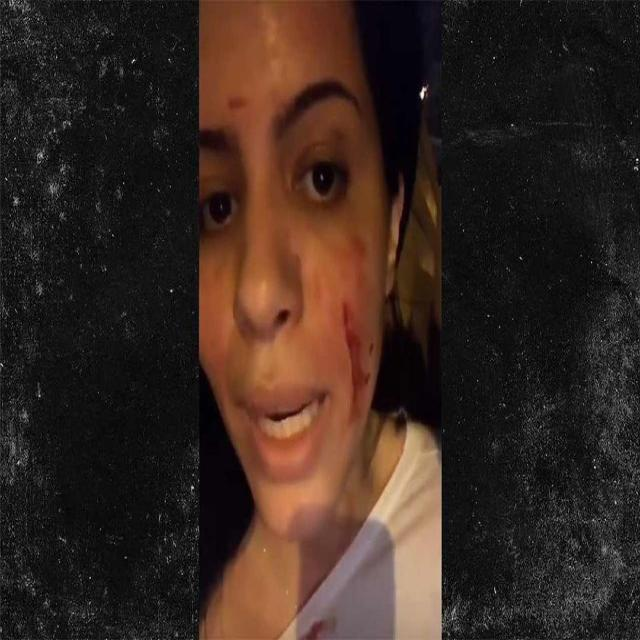flood: (342, 300, 370, 414)
